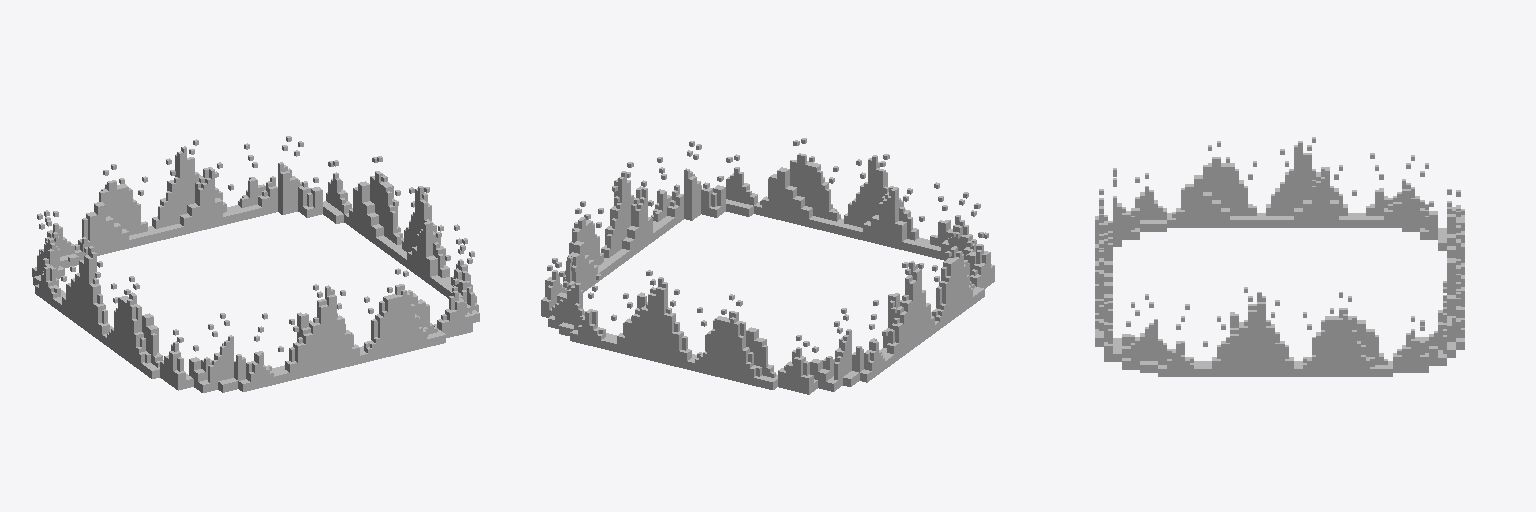
File: Fire.obj
The picture shows the model from 3 angles: view 1: azimuth 30°, elevation 25°; view 2: azimuth 150°, elevation 25°; view 3: azimuth 270°, elevation 25°; orthographic projection.
Visible parts, largest first — view 1: object 1; view 2: object 1; view 3: object 1.
Boxes of the visible parts, <box> form: object 1: <box>32,136,479,392</box>; object 1: <box>541,138,994,394</box>; object 1: <box>1095,137,1464,376</box>.
Size of the model in its own units: 8.2 by 2.1 by 8.2.